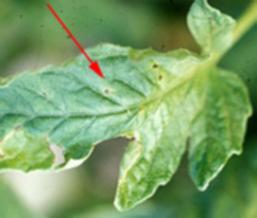Tomato leaf bacterial spot: (0, 39, 256, 212)
